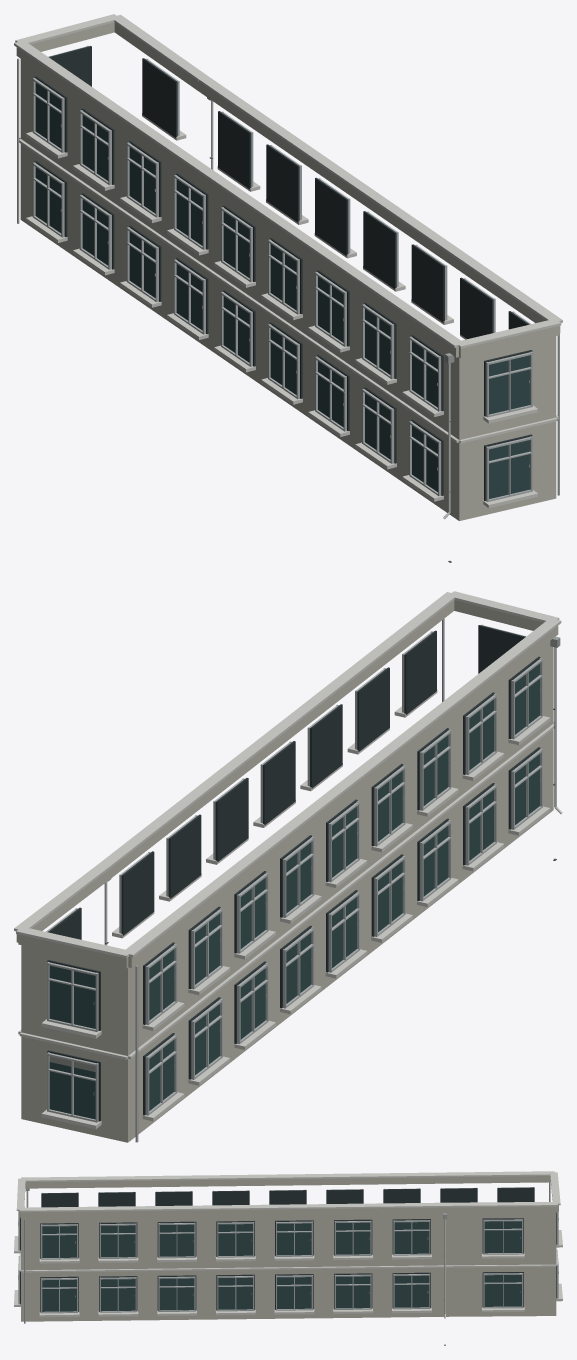
The model's file is osm_way_224990428.glb.
3 views of the same model, one above another, from view 1: azimuth 30°, elevation 25°; view 2: azimuth 150°, elevation 25°; view 3: azimuth 270°, elevation 25° (orthographic). The views are drawn at different scales.
Visible parts, largest first — view 1: Windows and facade details | 连廊, Architecture | 连廊, Roof services | 连廊, EXTERIOR::osm_way_224990428::rainwater and roof service deta; view 2: Windows and facade details | 连廊, Architecture | 连廊, Roof services | 连廊, EXTERIOR::osm_way_224990428::rainwater and roof service deta; view 3: Architecture | 连廊, Windows and facade details | 连廊, Roof services | 连廊, EXTERIOR::osm_way_224990428::rainwater and roof service deta.
Boxes of the visible parts, x1,y1,x2,y2 form: Windows and facade details | 连廊: (17,45,559,508); Architecture | 连廊: (16,22,560,520); Roof services | 连廊: (14,14,562,348); EXTERIOR::osm_way_224990428::rainwater and roof service deta: (207,97,454,562); Windows and facade details | 连廊: (41,618,550,1142); Architecture | 连廊: (16,600,558,1142); Roof services | 连廊: (14,591,561,958); EXTERIOR::osm_way_224990428::rainwater and roof service deta: (104,636,562,945); Architecture | 连廊: (18,1176,558,1321); Windows and facade details | 连廊: (14,1182,562,1323); Roof services | 连廊: (16,1171,560,1212); EXTERIOR::osm_way_224990428::rainwater and roof service deta: (25,1188,446,1345).
Bounding box in the file's own units: 6 × 9.37 × 33.35.
